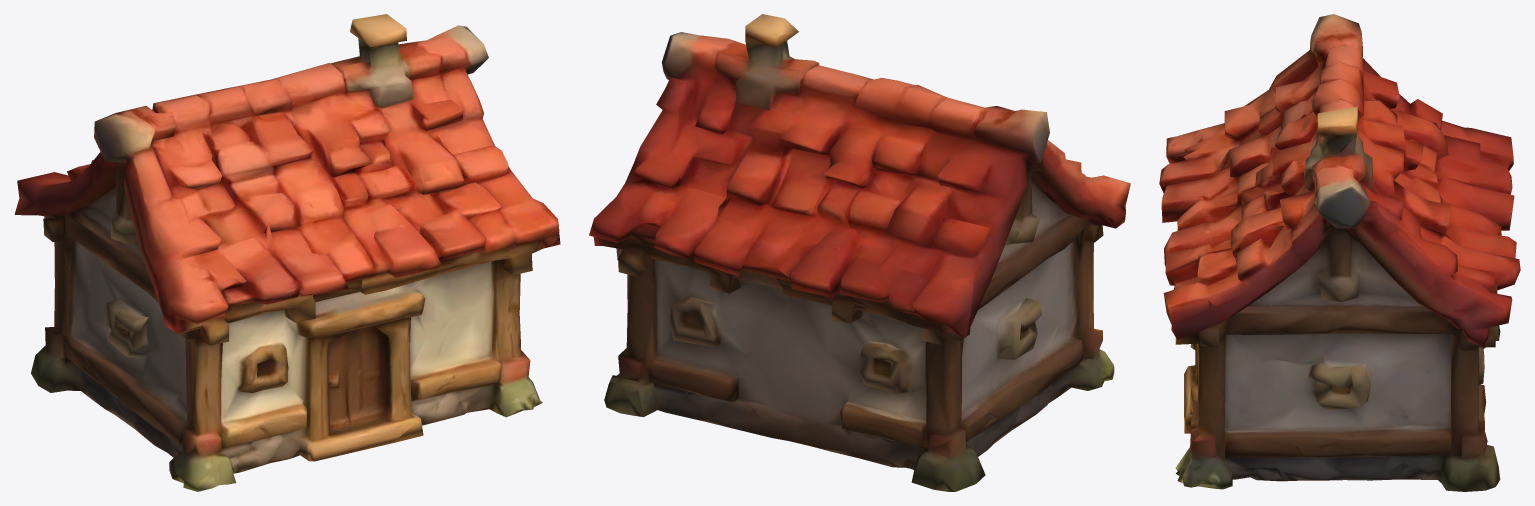
Rendered from house.glb.
3 renders of one model, left to right at view 1: azimuth 30°, elevation 25°; view 2: azimuth 150°, elevation 25°; view 3: azimuth 270°, elevation 25°, orthographic. The views are drawn at different scales.
Visible parts, largest first — view 1: tripo_node_cb6b8b6a-e1a0-40de-8e2b-eeb714fab8ec; view 2: tripo_node_cb6b8b6a-e1a0-40de-8e2b-eeb714fab8ec; view 3: tripo_node_cb6b8b6a-e1a0-40de-8e2b-eeb714fab8ec.
Part boxes in pixels (x1,y1,x2,y2): tripo_node_cb6b8b6a-e1a0-40de-8e2b-eeb714fab8ec: (14, 14, 560, 491); tripo_node_cb6b8b6a-e1a0-40de-8e2b-eeb714fab8ec: (589, 14, 1130, 491); tripo_node_cb6b8b6a-e1a0-40de-8e2b-eeb714fab8ec: (1159, 14, 1520, 491).
Size of the model in its own units: 1 by 0.8862 by 0.8453.
1 material, 1 textured.
